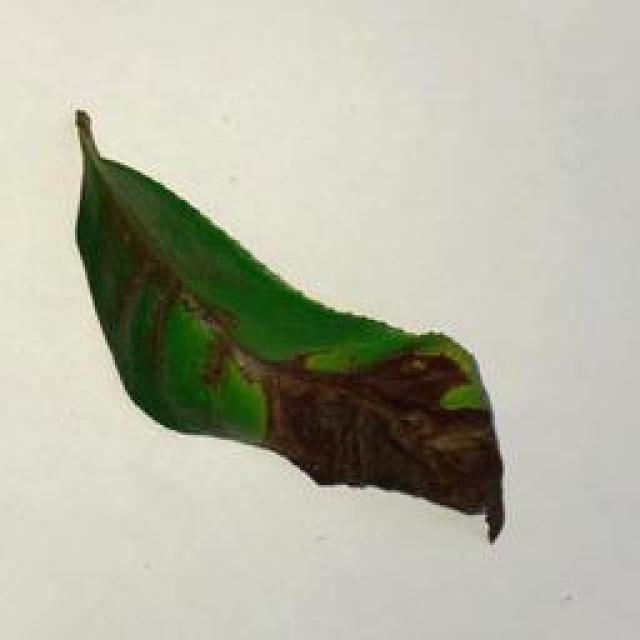Brown Blight: (60, 99, 529, 551)
